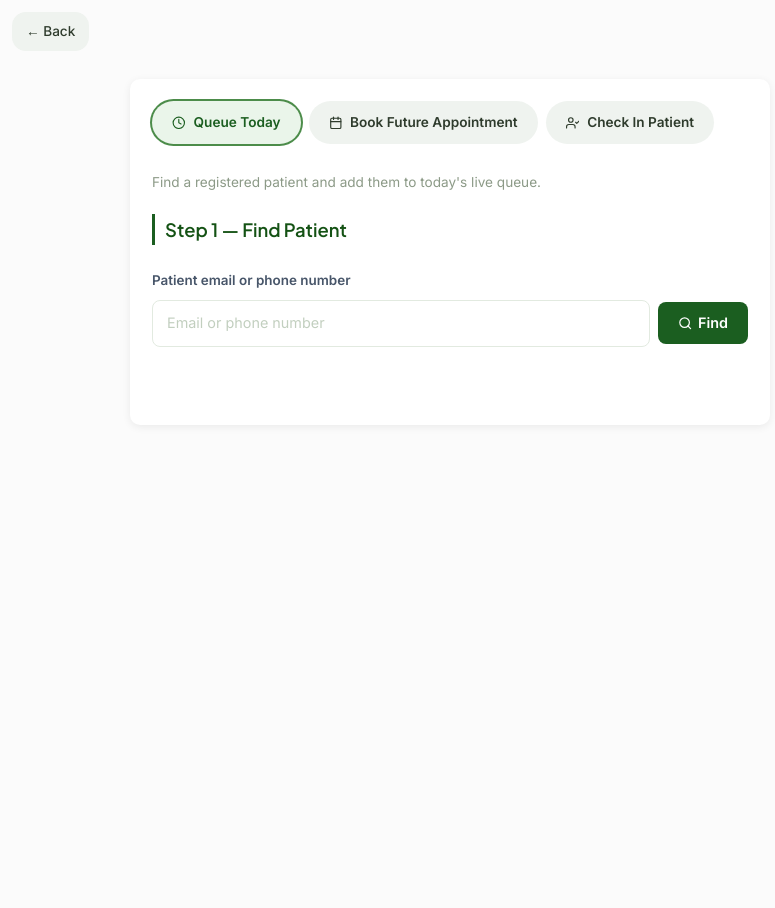
Patient search › shows profile when found
Type "john@example.com" into the field with placeholder "Email or phone number" at x=401, y=323, box left=152, top=300, right=650, bottom=347
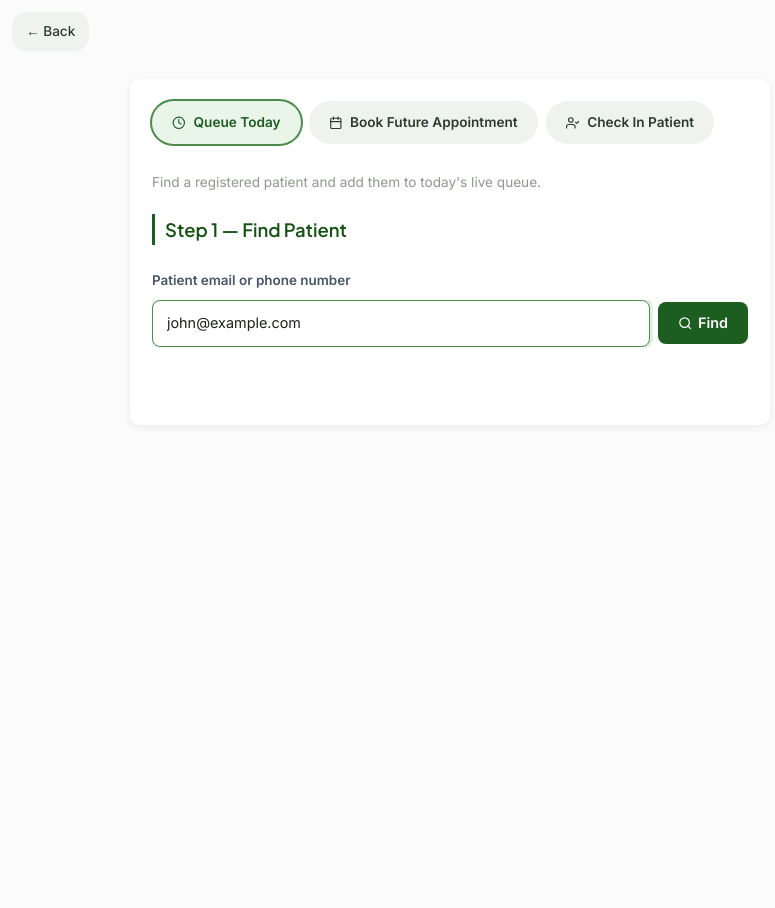
Click the button "Find" at x=703, y=323, box left=658, top=302, right=748, bottom=344
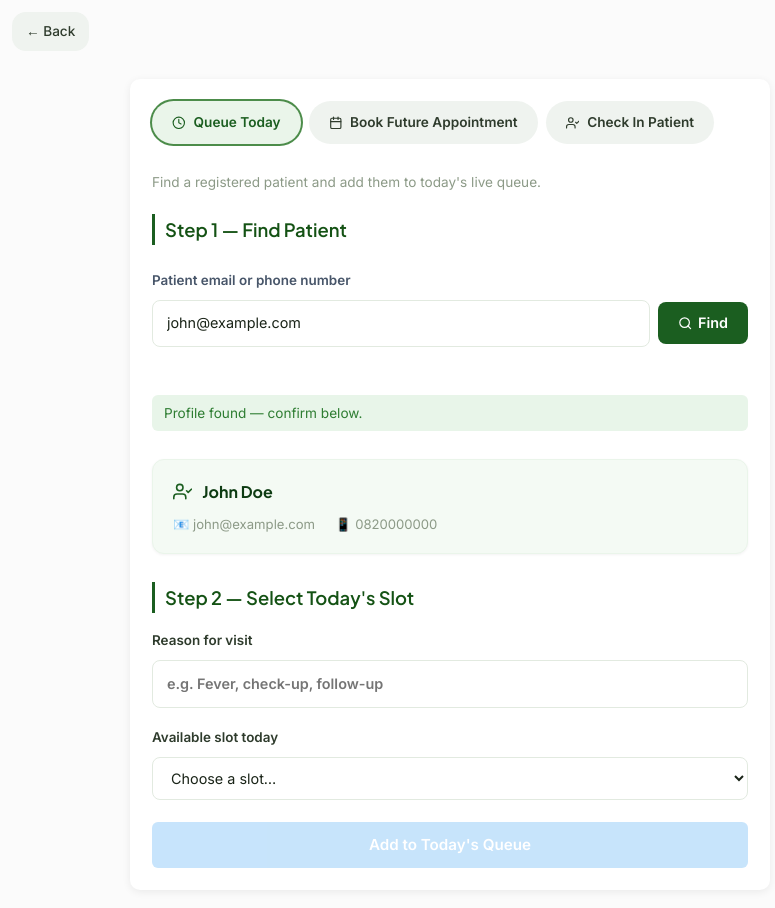
Expected: the text "Profile found — confirm below." is shown, left=152, top=394, right=748, bottom=431
Expected: the text "John Doe" is shown, left=202, top=478, right=273, bottom=505
Expected: the list item "📧 john@example.com" is shown, left=173, top=515, right=315, bottom=535
